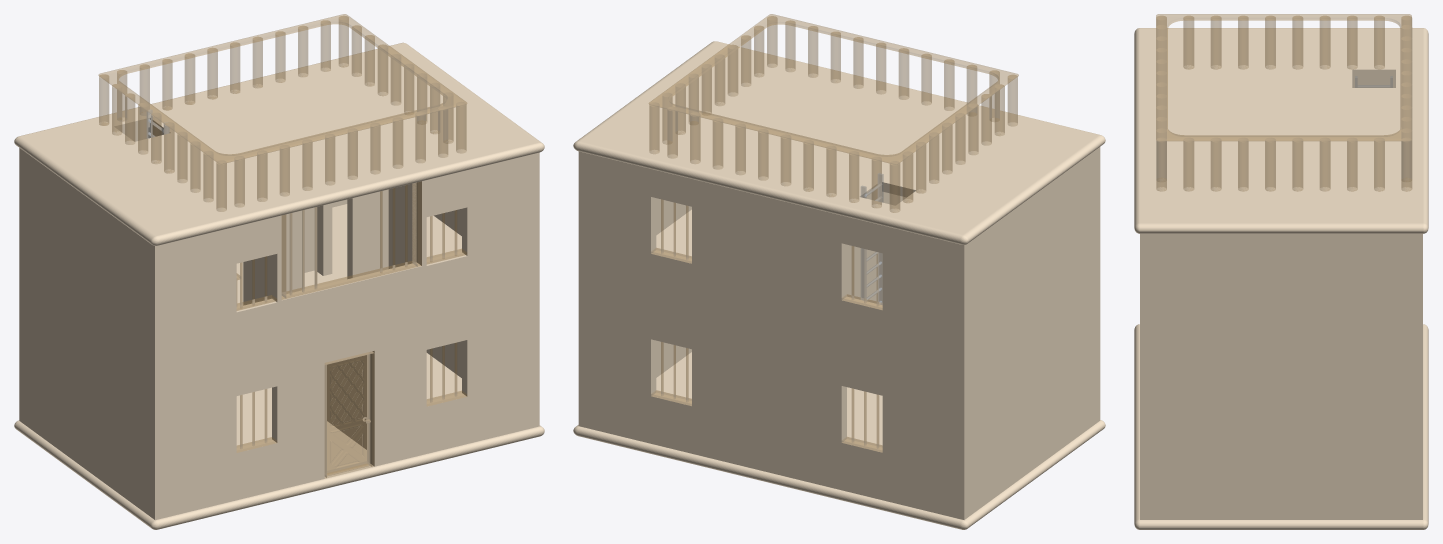
File: house6.glb
3 views of the same model, side by side, from view 1: azimuth 30°, elevation 25°; view 2: azimuth 150°, elevation 25°; view 3: azimuth 270°, elevation 25° (orthographic). The views are drawn at different scales.
Parts seen in each view (by area): view 1: obj_108, obj_161, obj_156, obj_3, obj_50, obj_22, obj_136, obj_135, obj_165, obj_44, obj_137, obj_52 (+9 smaller); view 2: obj_108, obj_109, obj_122, obj_3, obj_50, obj_22, obj_136, obj_135, obj_4, obj_20, obj_47; view 3: obj_108, obj_4, obj_20, obj_135, obj_22, obj_136, obj_61, obj_58, obj_62, obj_69, obj_55, obj_56 (+15 smaller).
Boxes of the visible parts, x1=… form: obj_108: x1=14, y1=42, x2=544, y2=245; obj_161: x1=164, y1=296, x2=530, y2=517; obj_156: x1=164, y1=155, x2=530, y2=375; obj_3: x1=19, y1=288, x2=164, y2=520; obj_50: x1=19, y1=148, x2=164, y2=378; obj_22: x1=14, y1=353, x2=544, y2=529; obj_136: x1=19, y1=204, x2=539, y2=387; obj_135: x1=98, y1=14, x2=466, y2=163; obj_165: x1=325, y1=352, x2=370, y2=475; obj_44: x1=347, y1=189, x2=388, y2=278; obj_137: x1=327, y1=355, x2=366, y2=449; obj_52: x1=388, y1=183, x2=416, y2=268; obj_108: x1=573, y1=41, x2=1105, y2=244; obj_109: x1=587, y1=295, x2=955, y2=517; obj_122: x1=587, y1=153, x2=955, y2=375; obj_3: x1=955, y1=288, x2=1100, y2=519; obj_50: x1=955, y1=147, x2=1100, y2=377; obj_22: x1=573, y1=352, x2=1105, y2=529; obj_136: x1=578, y1=209, x2=1100, y2=386; obj_135: x1=649, y1=14, x2=1018, y2=164; obj_4: x1=578, y1=293, x2=691, y2=428; obj_20: x1=578, y1=151, x2=691, y2=285; obj_47: x1=847, y1=191, x2=906, y2=303; obj_108: x1=1134, y1=28, x2=1428, y2=233; obj_4: x1=1140, y1=381, x2=1422, y2=519; obj_20: x1=1140, y1=234, x2=1422, y2=371; obj_135: x1=1156, y1=14, x2=1411, y2=140; obj_22: x1=1134, y1=324, x2=1428, y2=529; obj_136: x1=1140, y1=372, x2=1422, y2=381; obj_61: x1=1211, y1=16, x2=1221, y2=69; obj_58: x1=1292, y1=16, x2=1302, y2=69; obj_62: x1=1183, y1=16, x2=1193, y2=69; obj_69: x1=1265, y1=138, x2=1275, y2=191; obj_55: x1=1374, y1=16, x2=1384, y2=69; obj_56: x1=1347, y1=16, x2=1357, y2=69.
Bounding box in the file's own units: 87 × 72.5 × 54.
